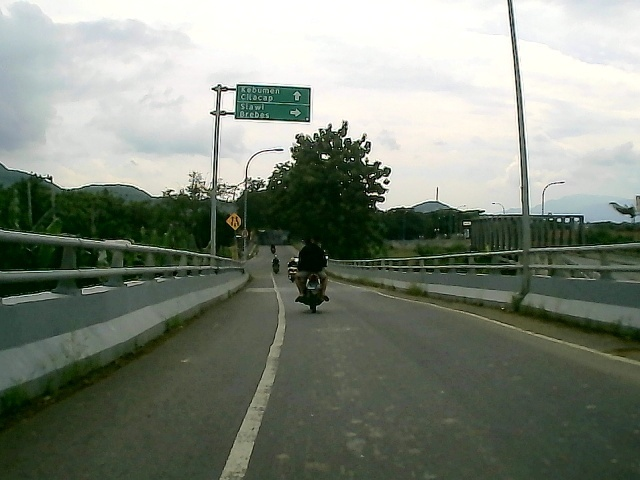Akhir bangunan pemisah satu arah: (223, 211, 243, 231)
